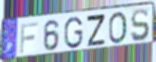6: (42, 18, 61, 52)
F: (19, 21, 39, 55)
G: (63, 16, 84, 50)
O: (108, 11, 128, 46)
S: (130, 8, 151, 43)
Z: (85, 14, 106, 48)
